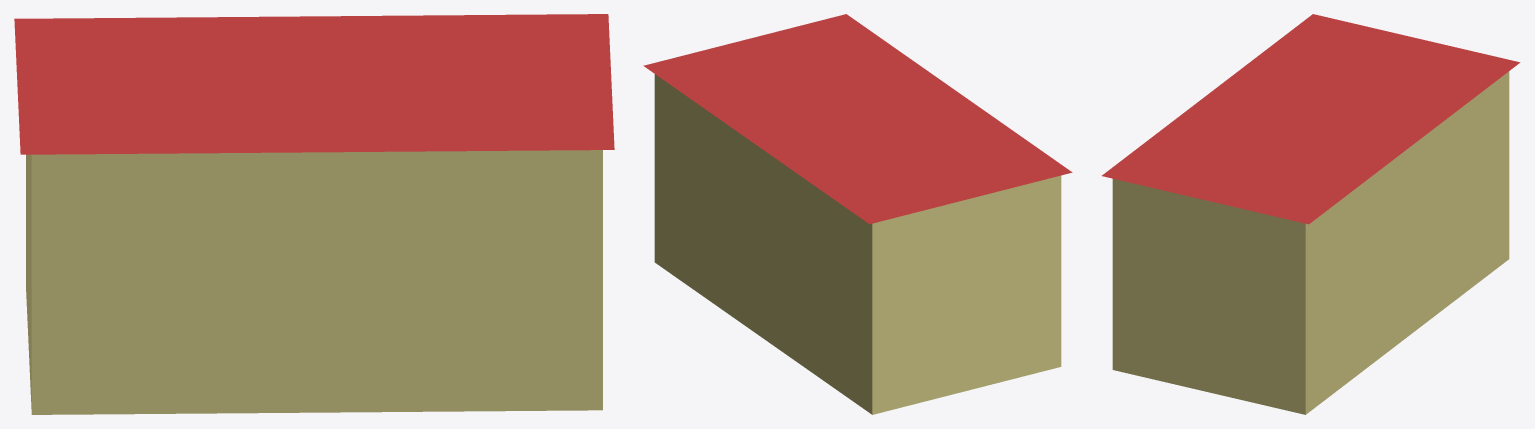
The picture shows the model from 3 angles, left to right: view 1: azimuth 30°, elevation 25°; view 2: azimuth 150°, elevation 25°; view 3: azimuth 270°, elevation 25°; orthographic projection. The views are drawn at different scales.
Bounding box in the file's own units: 14.81 × 12.47 × 6.41.
